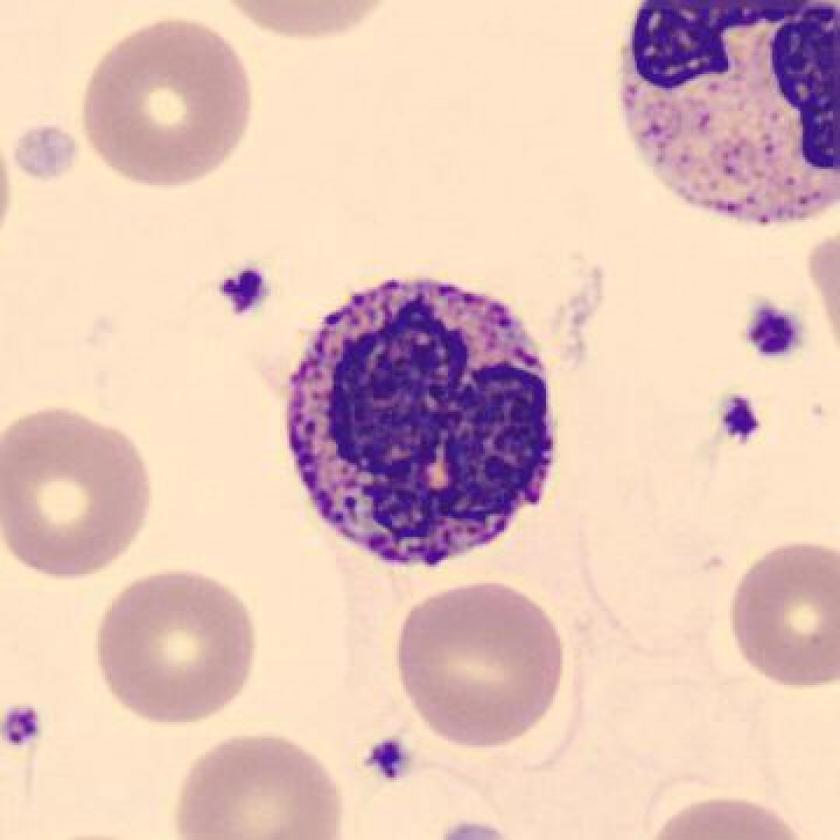basophil: (283, 265, 573, 577), (612, 1, 840, 232)
